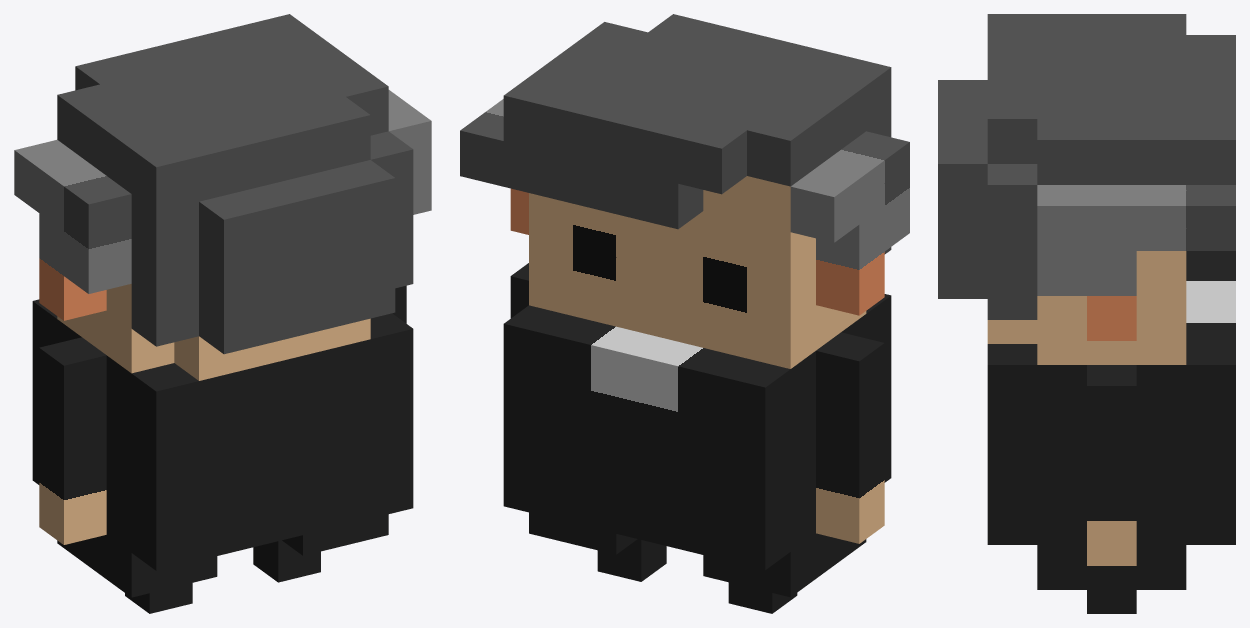
File: chr_priest.dae
The picture shows the model from 3 angles, left to right: view 1: azimuth 30°, elevation 25°; view 2: azimuth 150°, elevation 25°; view 3: azimuth 270°, elevation 25°; orthographic projection.
Parts seen in each view (by area): view 1: chr_priest; view 2: chr_priest; view 3: chr_priest.
Part boxes in pixels (left/top/right/bottom): chr_priest: left=14, top=14, right=431, bottom=613; chr_priest: left=460, top=14, right=909, bottom=613; chr_priest: left=938, top=14, right=1235, bottom=613.
Bounding box in the file's own units: 0.8 × 0.6 × 1.1.
